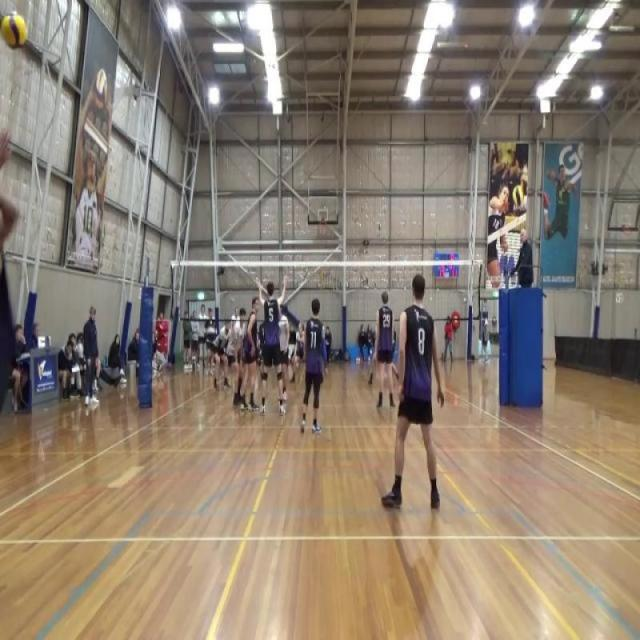volleyball: (93, 69, 107, 116), (512, 184, 524, 206)
